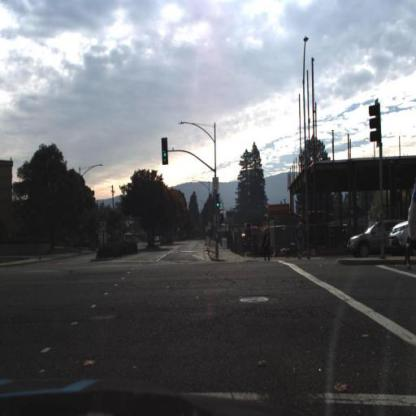car: (345, 218, 396, 260), (381, 206, 416, 259)
pedestrian: (294, 219, 305, 255), (263, 227, 272, 262)
trafficLight-Green: (161, 137, 170, 165), (216, 192, 222, 210)
